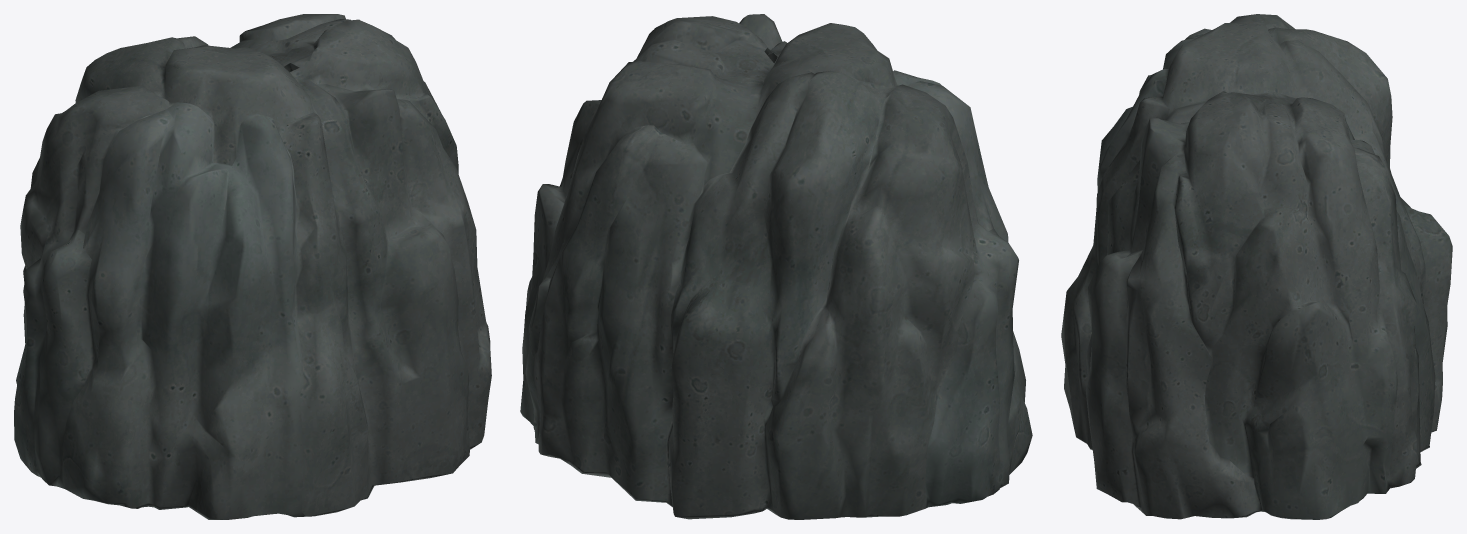
File: Cliff_Wall_Large01.fbx
The picture shows the model from 3 angles, left to right: view 1: azimuth 30°, elevation 25°; view 2: azimuth 150°, elevation 25°; view 3: azimuth 270°, elevation 25°; orthographic projection. The views are drawn at different scales.
Parts seen in each view (by area): view 1: SM_CliffWall_Large01.mo; view 2: SM_CliffWall_Large01.mo; view 3: SM_CliffWall_Large01.mo.
Boxes of the visible parts, bbox=[...] form: SM_CliffWall_Large01.mo: bbox=[14, 14, 491, 519]; SM_CliffWall_Large01.mo: bbox=[520, 14, 1032, 519]; SM_CliffWall_Large01.mo: bbox=[1061, 14, 1452, 519].
Bounding box in the file's own units: 2133 × 1865 × 1737.
Materials: 1 (1 with a texture image).
